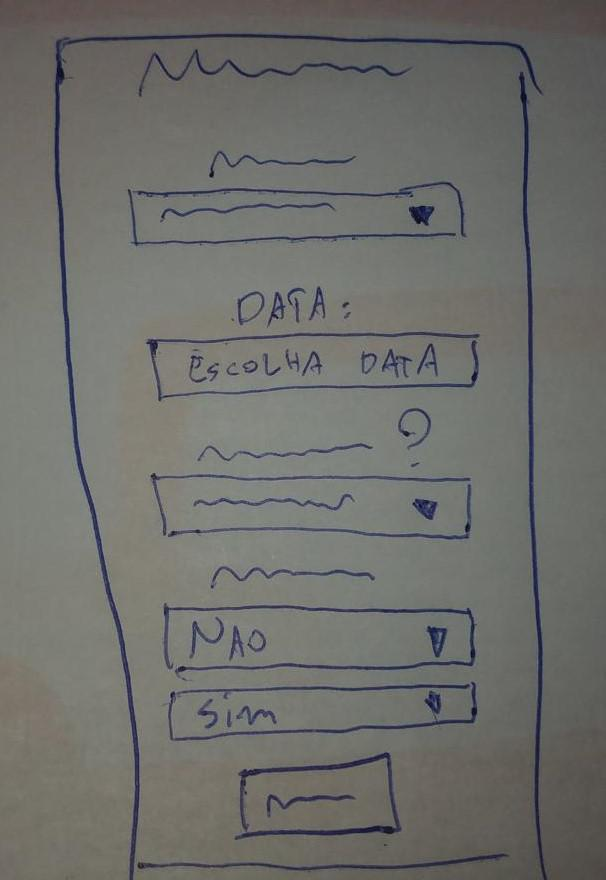Button: (146, 331, 480, 401), (235, 753, 401, 841)
Label: (196, 407, 431, 467), (137, 47, 415, 97), (235, 286, 351, 327), (209, 148, 357, 177), (211, 563, 375, 589)
ListPicker: (128, 181, 466, 245), (151, 472, 473, 539), (163, 603, 475, 672), (169, 682, 477, 740)
Screen: (55, 35, 549, 879)
